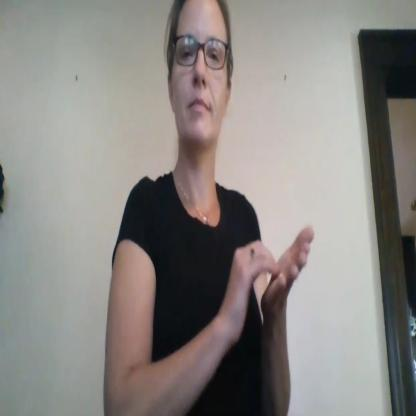ExcuseMe: (216, 207, 318, 354)
